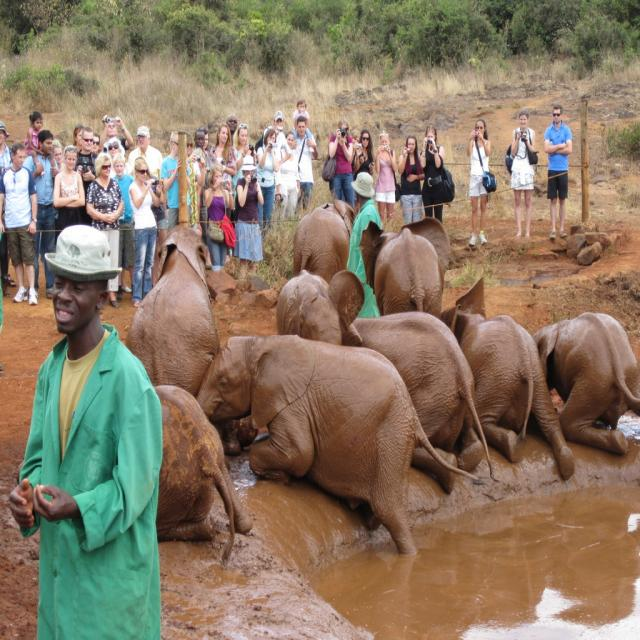elephant: (194, 335, 480, 556), (279, 266, 497, 482), (439, 278, 576, 480), (140, 379, 248, 572), (125, 230, 226, 391), (530, 309, 640, 450), (360, 213, 458, 329), (291, 204, 363, 290)
